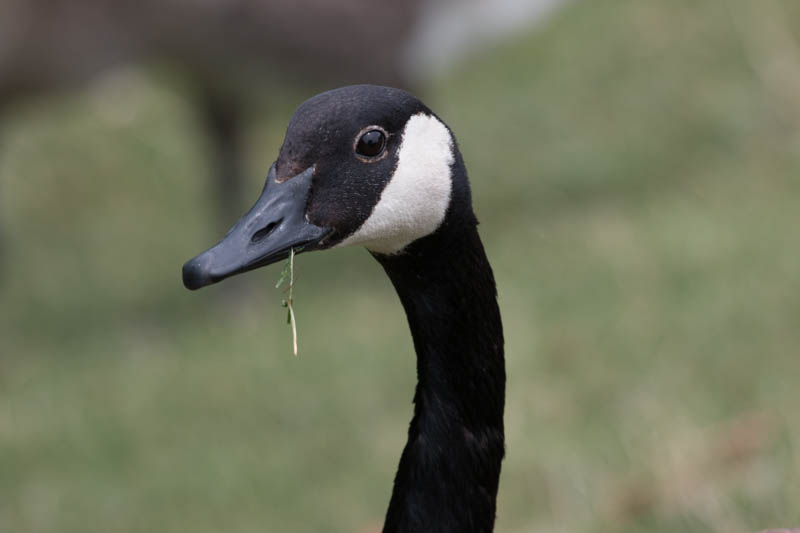goose-head: (181, 84, 471, 290)
